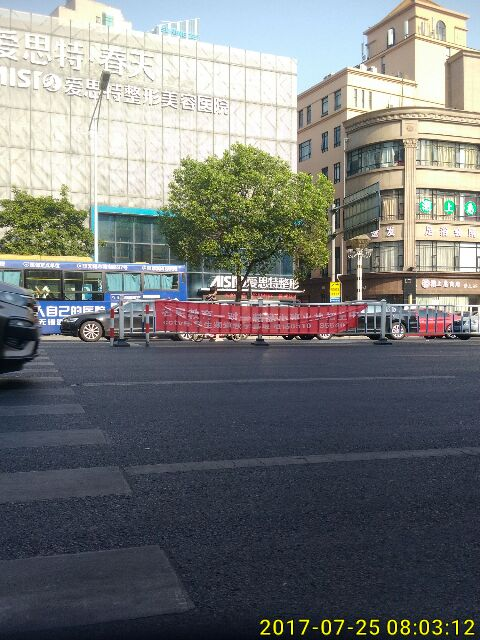multi_signs: (1, 8, 300, 211), (210, 272, 300, 293)
